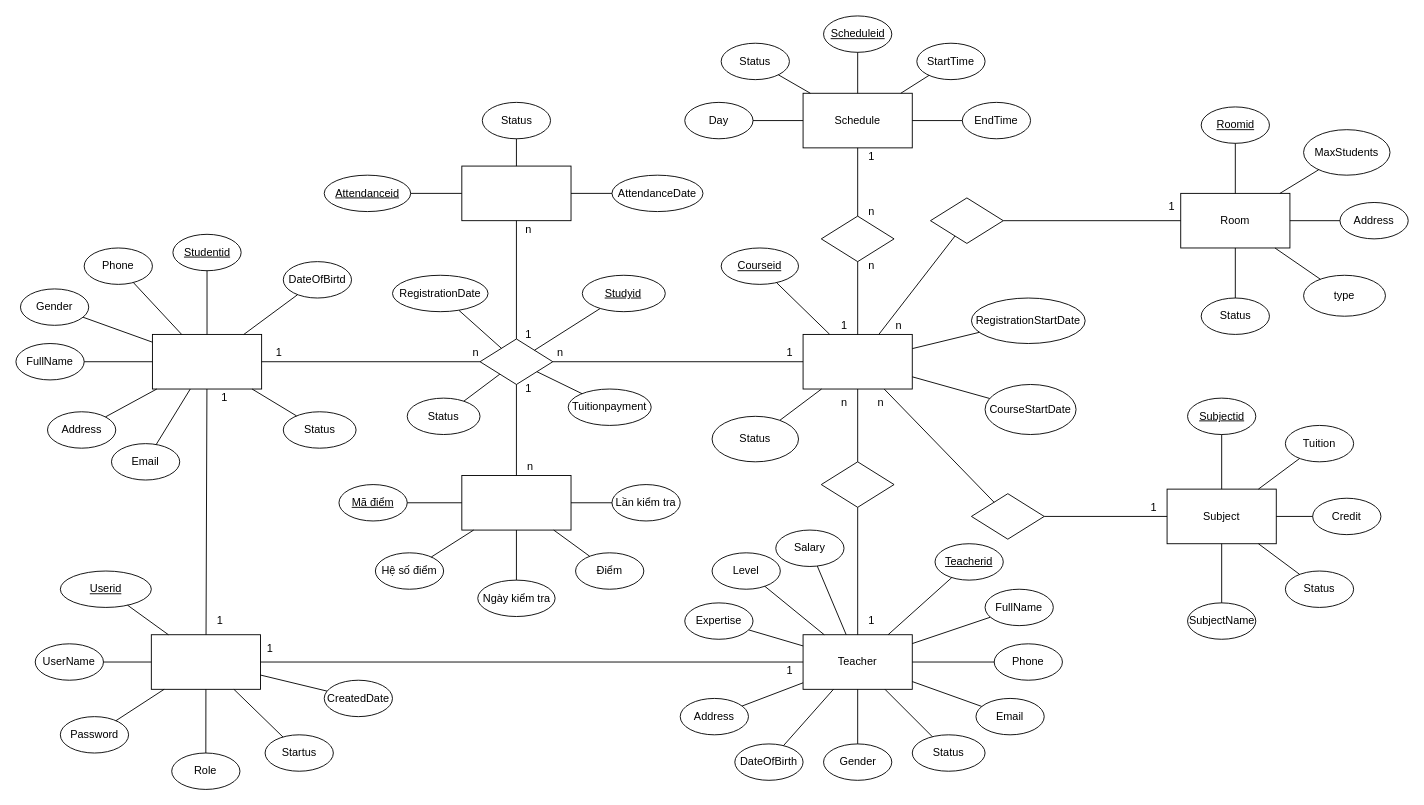
This 1424x805 diagram has some shape labels left out. The shapes that lost their labels are listed below. From the top down, each one's centre as x and y in pixels, then its label:
At point (516, 193): "Attendance".
At point (857, 238): "Has".
At point (966, 220): "At".
At point (207, 361): "Student".
At point (516, 361): "Study".
At point (857, 361): "Course".
At point (516, 502): "Score".
At point (857, 484): "Teach".
At point (1007, 516): "Of".
At point (205, 661): "User".
